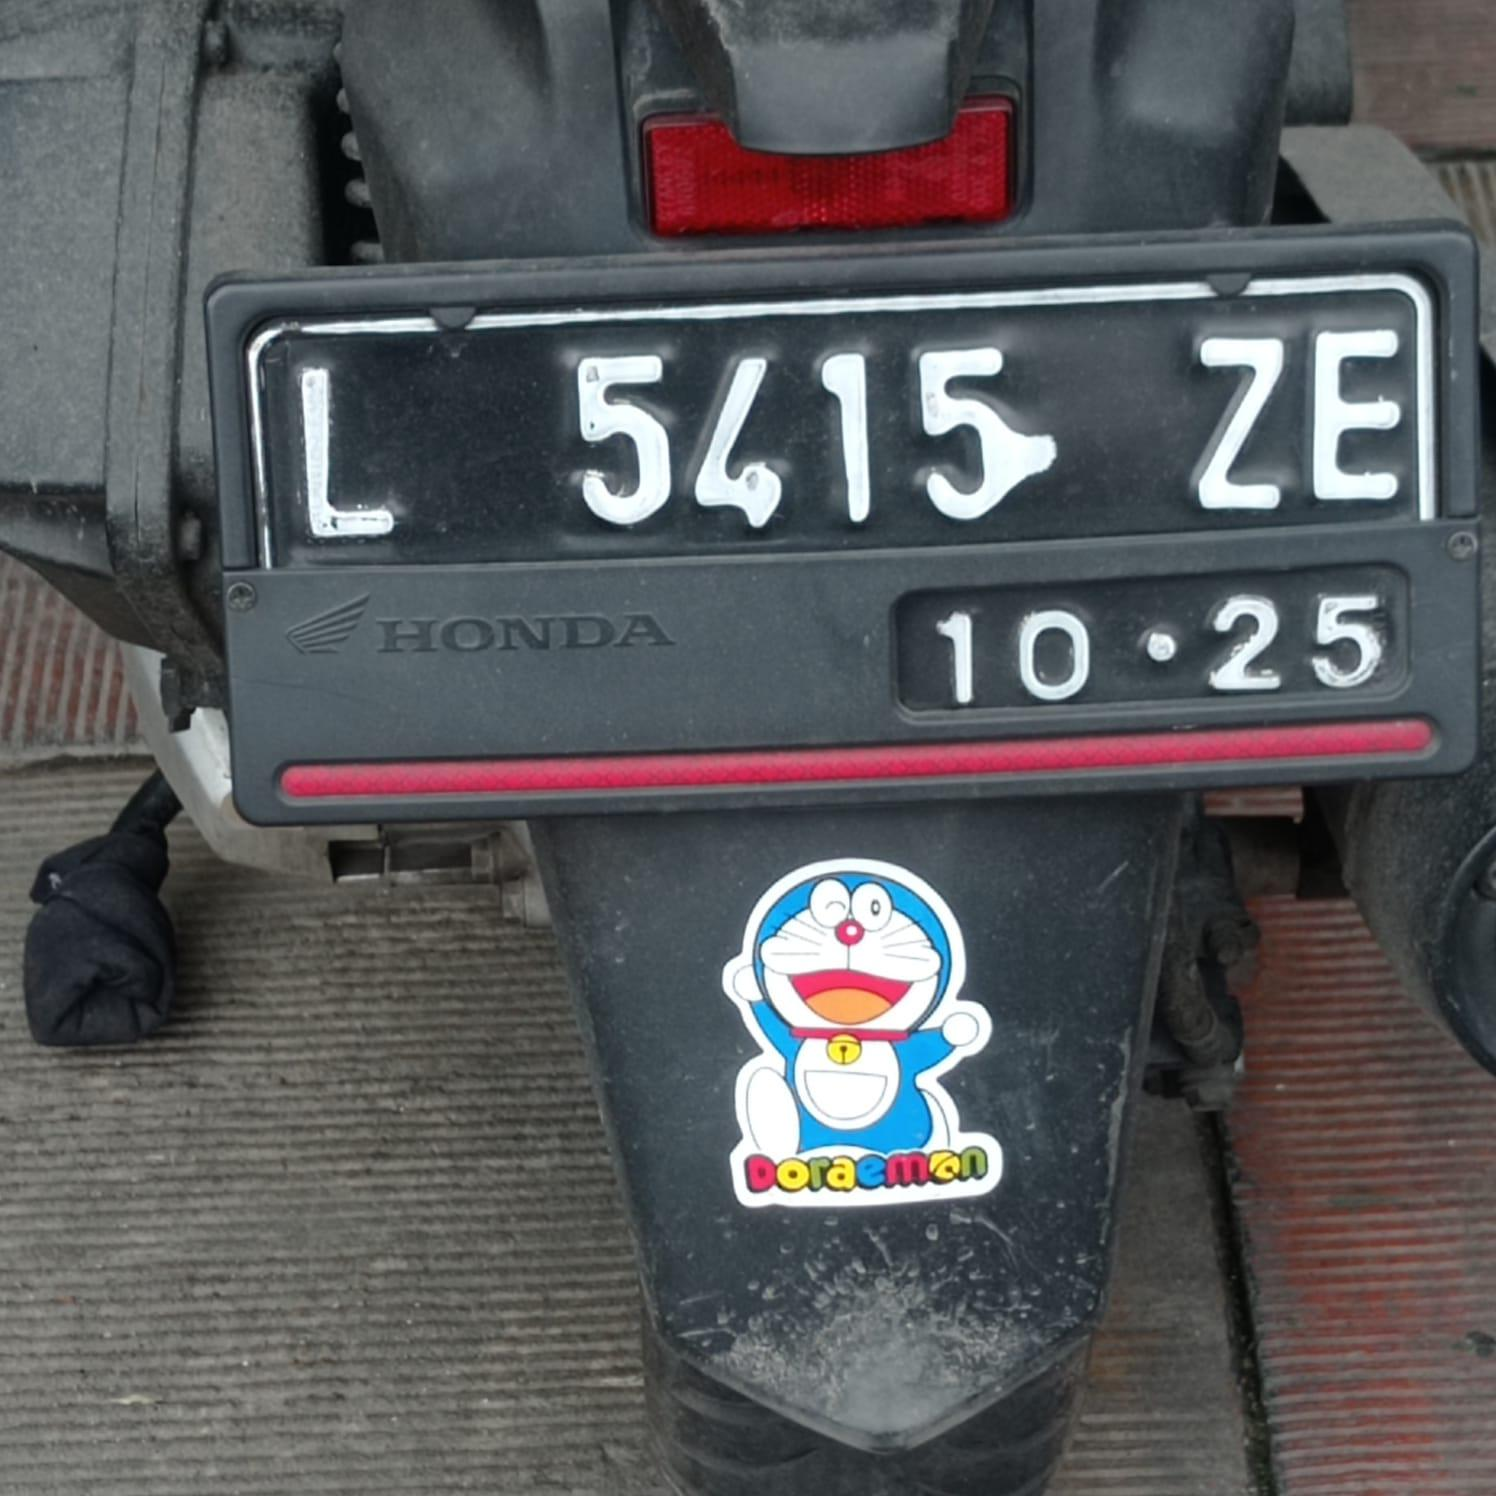plat: (210, 222, 1484, 814)
